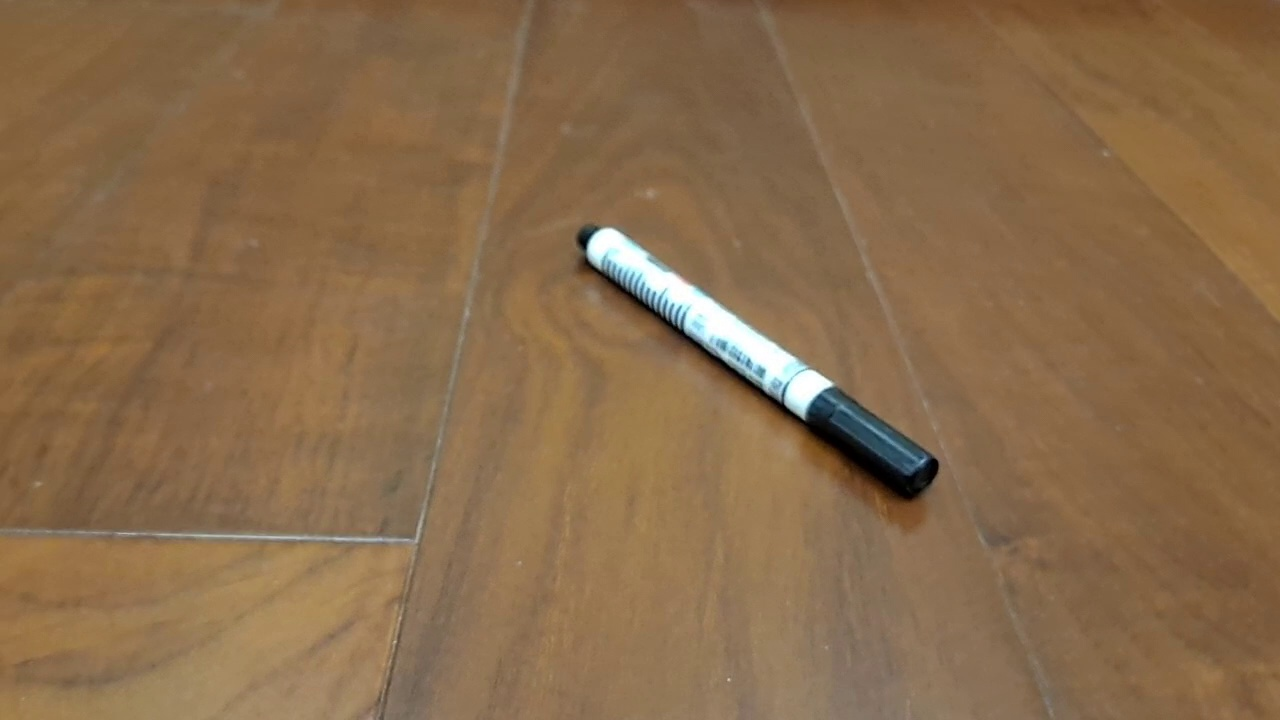pen: (575, 223, 941, 502)
